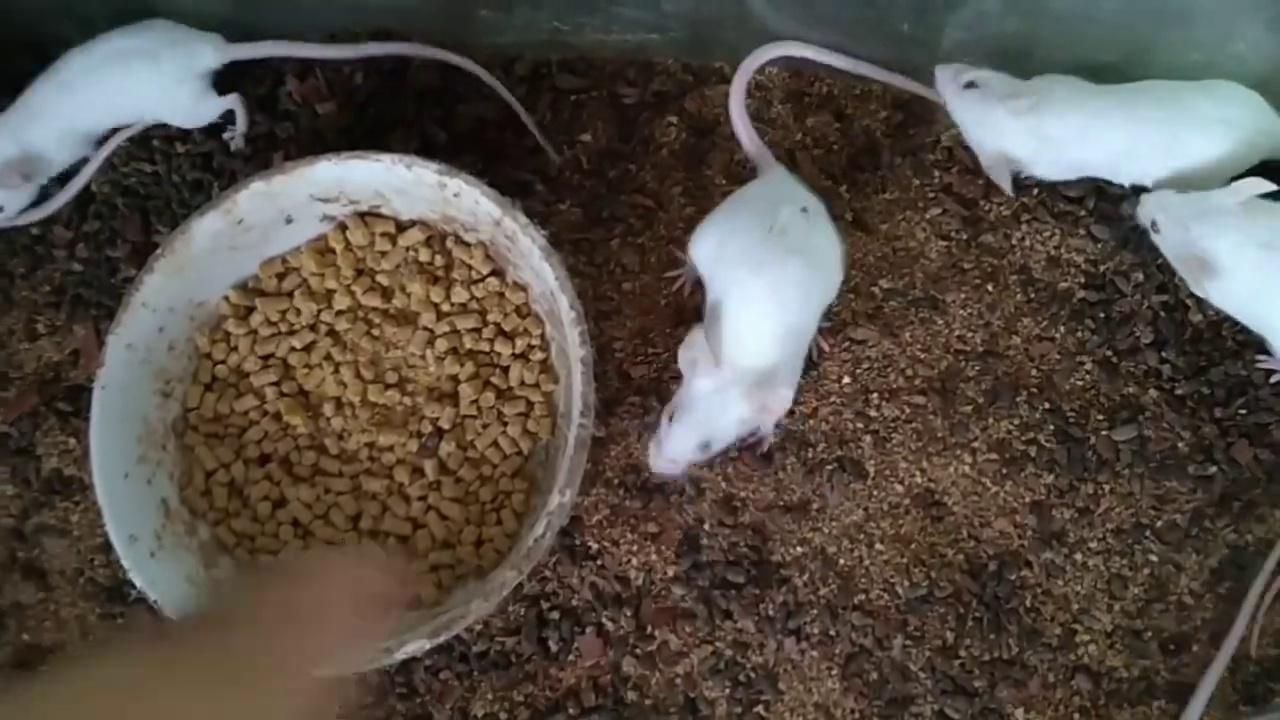rat: (648, 38, 938, 478), (0, 13, 561, 224), (937, 57, 1280, 192), (1139, 178, 1280, 384)
